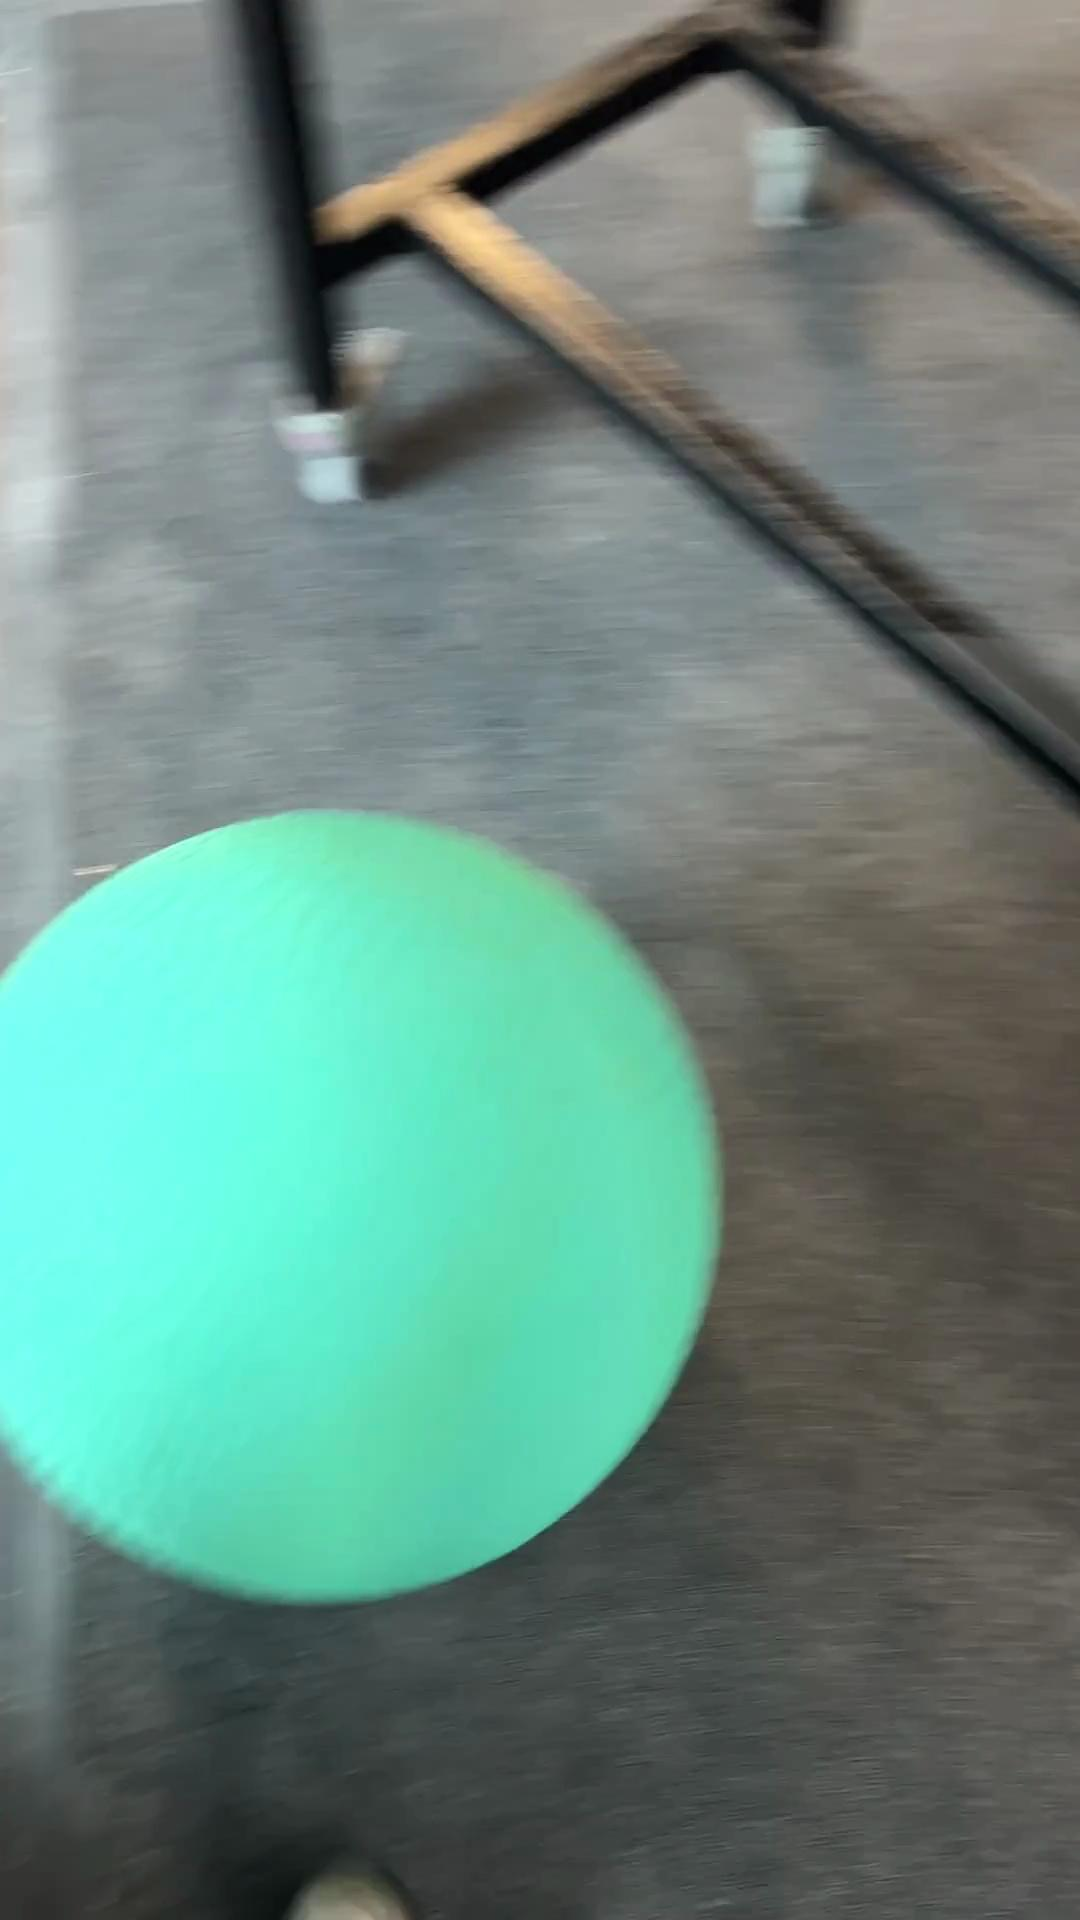ALGAE: (1, 803, 726, 1609)
